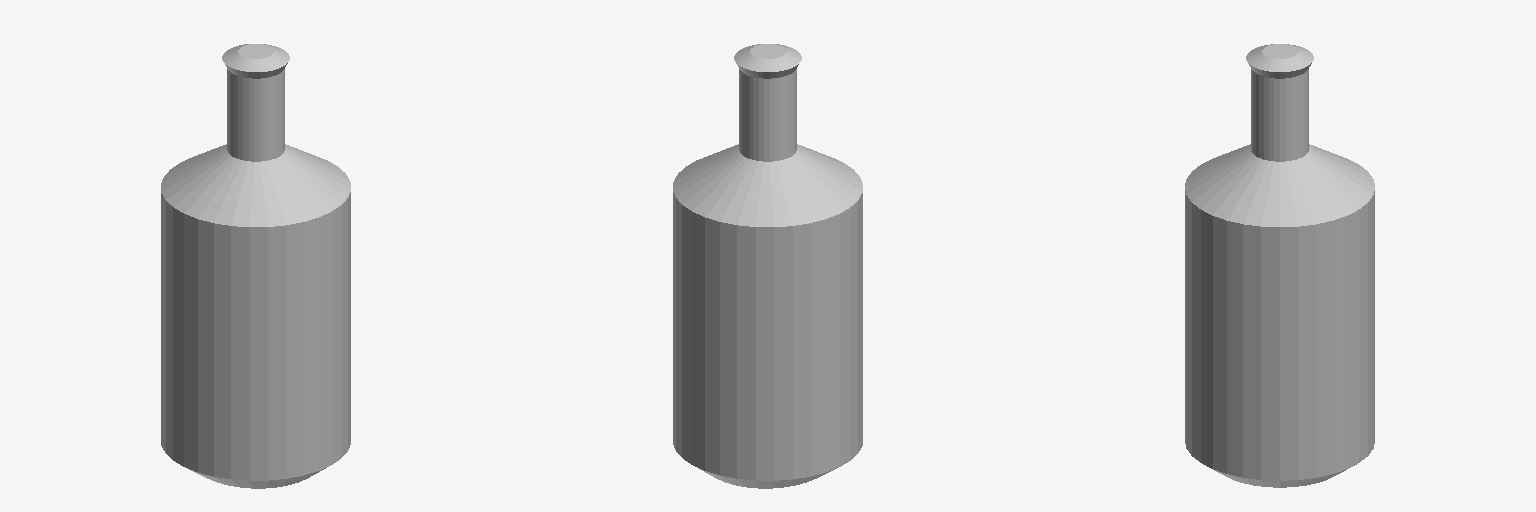
The model's file is flasche.obj.
The picture shows the model from 3 angles: view 1: azimuth 30°, elevation 25°; view 2: azimuth 150°, elevation 25°; view 3: azimuth 270°, elevation 25°; orthographic projection.
Visible parts, largest first — view 1: Cylinder; view 2: Cylinder; view 3: Cylinder.
Part boxes in pixels (bbox=[...]): Cylinder: bbox=[161, 44, 350, 488]; Cylinder: bbox=[673, 44, 862, 488]; Cylinder: bbox=[1185, 44, 1374, 487].
Bounding box in the file's own units: 0.6 × 1.42 × 0.6.